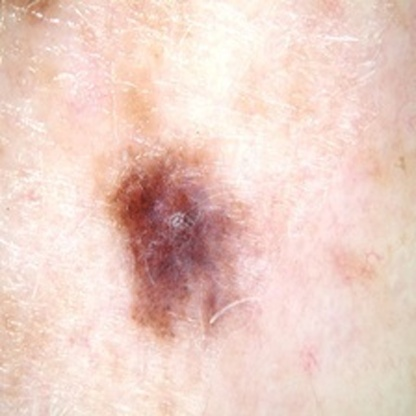malignant: (104, 154, 269, 346)
